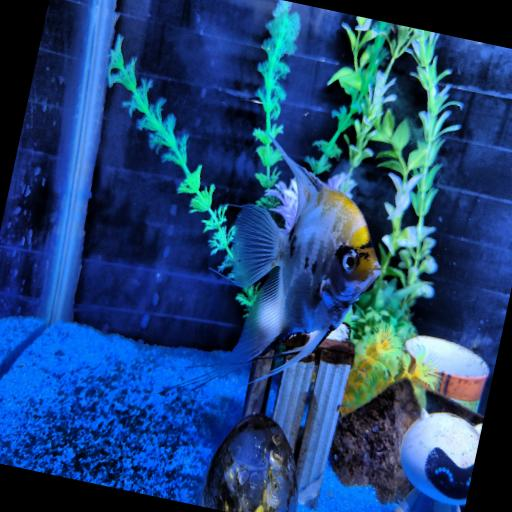Fish: (193, 140, 380, 385)
